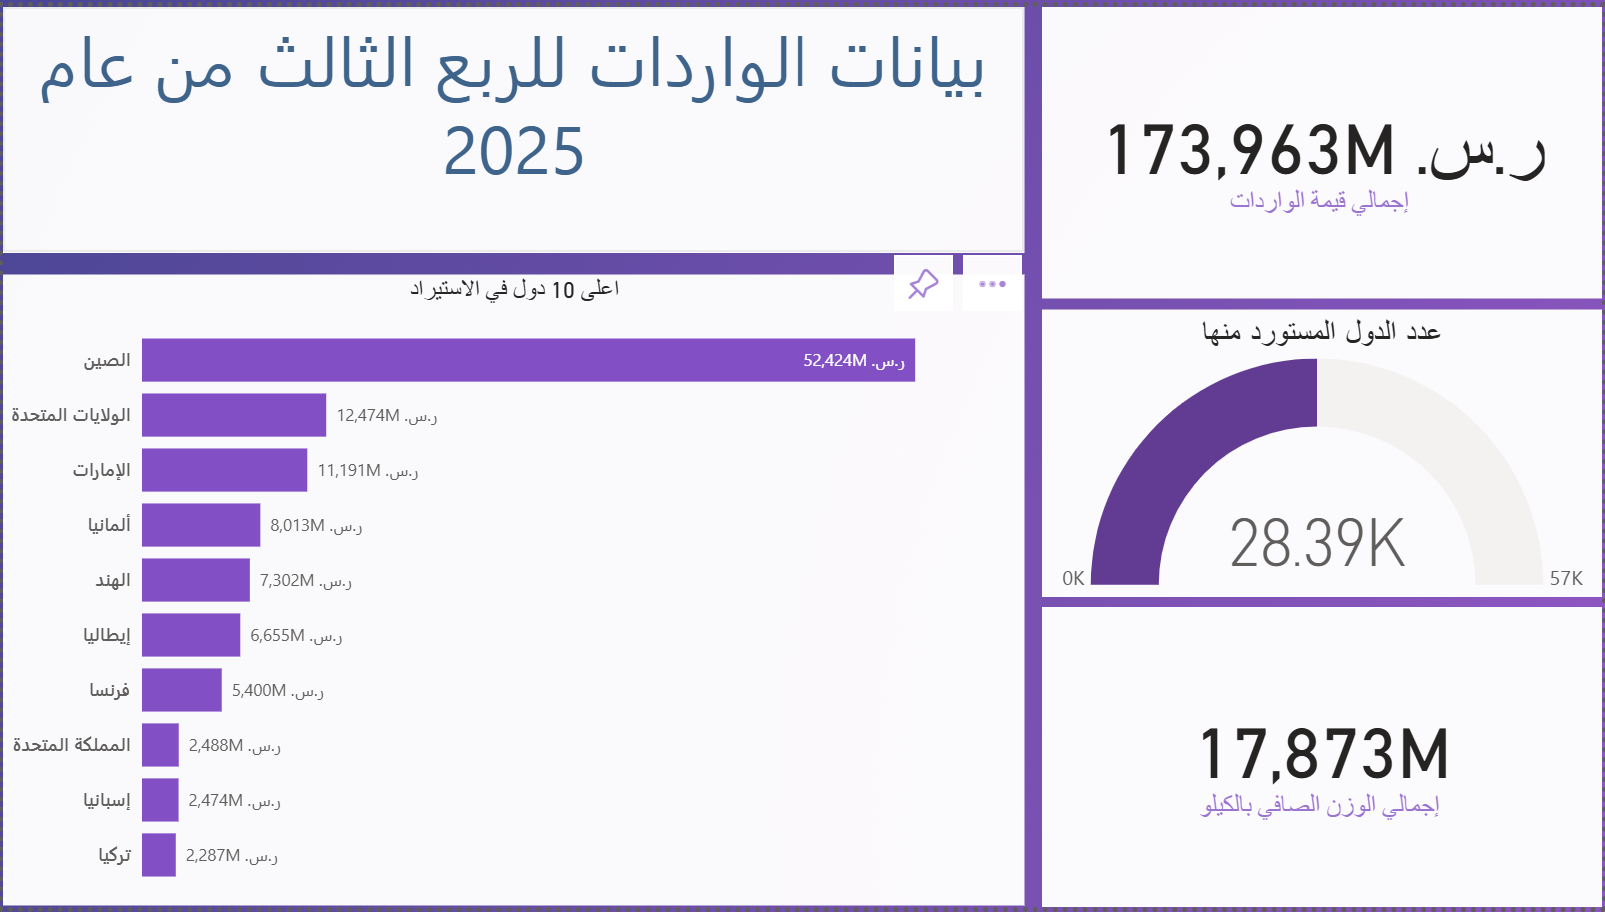

The page's visual inventory and layout, read from the dashboard file:
{"tool":"powerbi","page":{"name":"Page 1","canvas":[1280,720],"ordinal":0},"visuals":[{"type":"card","fields":{"Values":["Sum(Imports Data Q3 2025 csv.قيمة - ريال)"]},"box":[831.7,0,448.3,233.3],"z":1000},{"type":"card","fields":{"Values":["Imports Data Q3 2025 csv.sum of KILO"]},"box":[831.7,480,448.3,240],"z":2000},{"type":"gauge","fields":{"Y":["CountNonNull(Imports Data Q3 2025 csv.الدولة)"]},"box":[831.7,241.7,448.3,230],"z":2001},{"type":"clusteredBarChart","title":"اعلى 10 دول في الاستيراد ","fields":{"Category":["Imports Data Q3 2025 csv.الدولة"],"Y":["Sum(Imports Data Q3 2025 csv.قيمة - ريال)"]},"box":[0,241.7,818.3,478.3],"z":2002},{"type":"textbox","box":[0,36.7,818.3,160],"z":2003}]}

Visuals, with their boxes in screenshot pixels (x1, y1, x2, y2), scaled from the page's 1280x720 canvas onto the 1605x912 screenshot:
card - Sum(Imports Data Q3 2025 csv.قيمة - ريال): <box>1043,0,1604,296</box>
card - Imports Data Q3 2025 csv.sum of KILO: <box>1043,608,1604,911</box>
gauge - CountNonNull(Imports Data Q3 2025 csv.الدولة): <box>1043,306,1604,597</box>
"اعلى 10 دول في الاستيراد " clusteredBarChart: <box>0,306,1026,911</box>
textbox: <box>0,46,1026,249</box>
